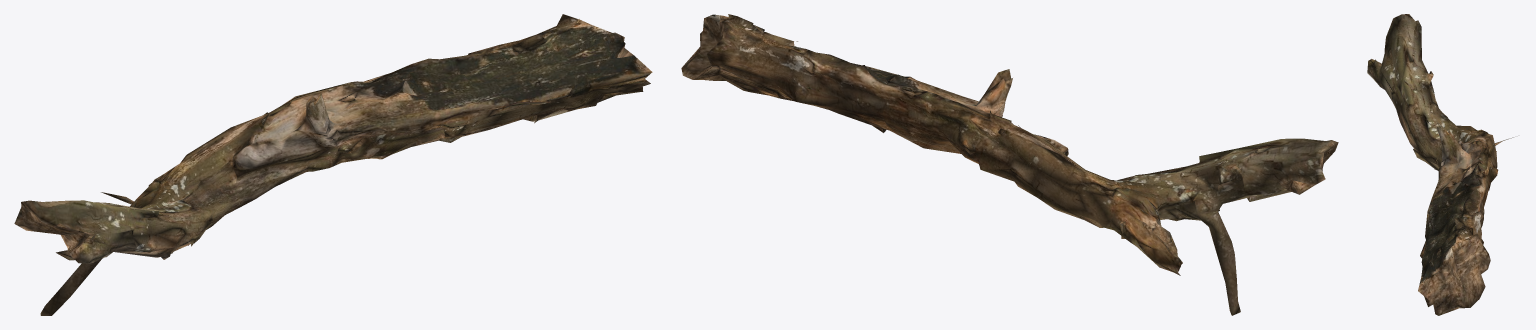
Rendered from tronc-mort.glb.
The picture shows the model from 3 angles, left to right: view 1: azimuth 30°, elevation 25°; view 2: azimuth 150°, elevation 25°; view 3: azimuth 270°, elevation 25°; orthographic projection. The views are drawn at different scales.
Visible parts, largest first — view 1: dead_tree_trunk_02; view 2: dead_tree_trunk_02; view 3: dead_tree_trunk_02.
Part boxes in pixels (x1,y1,x2,y2): dead_tree_trunk_02: [14, 14, 652, 315]; dead_tree_trunk_02: [681, 14, 1338, 315]; dead_tree_trunk_02: [1367, 14, 1513, 315].
Bounding box in the file's own units: 4.05 × 1.05 × 1.04.
1 material, 1 textured.
